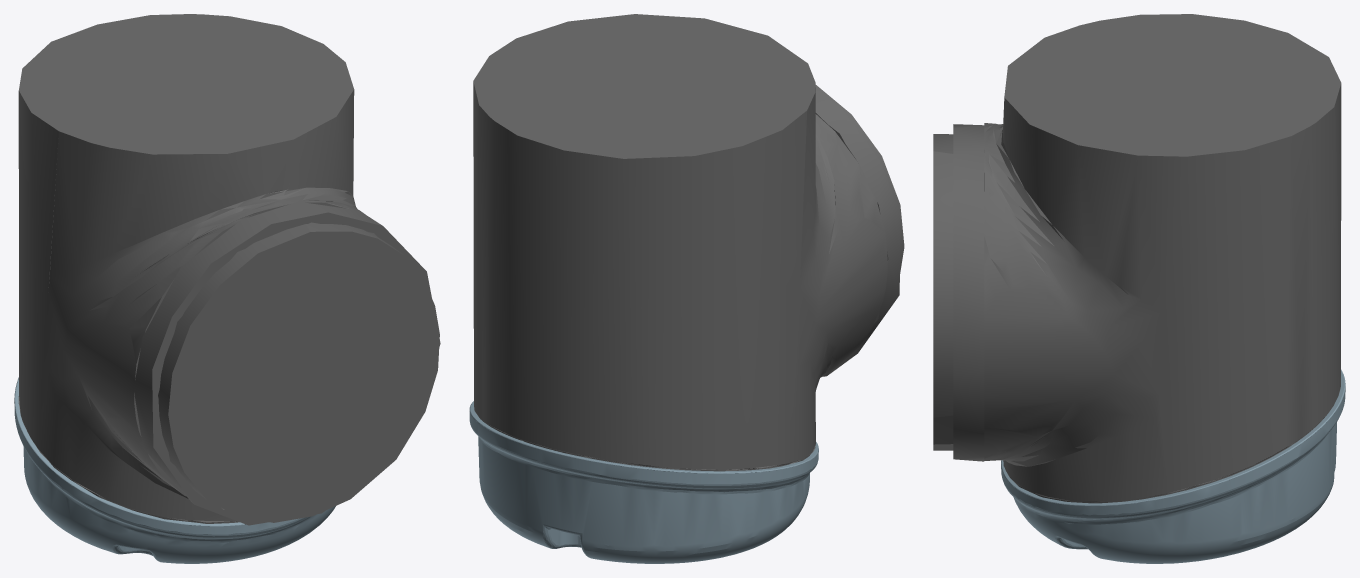
The model's file is wrist1.dae.
3 views of the same model, side by side, from view 1: azimuth 30°, elevation 25°; view 2: azimuth 150°, elevation 25°; view 3: azimuth 270°, elevation 25° (orthographic). The views are drawn at different scales.
Visible parts, largest first — view 1: node0, node2, node1; view 2: node0, node2, node1; view 3: node0, node2, node1.
Part boxes in pixels (left/top/right/bottom): node0: left=18, top=14, right=439, bottom=523; node2: left=14, top=377, right=335, bottom=563; node1: left=133, top=201, right=440, bottom=525; node0: left=473, top=14, right=904, bottom=471; node2: left=469, top=401, right=818, bottom=563; node1: left=815, top=91, right=900, bottom=376; node0: left=933, top=14, right=1341, bottom=503; node2: left=1001, top=369, right=1345, bottom=563; node1: left=953, top=124, right=984, bottom=461.
Size of the model in its own units: 0.0644 by 0.0769 by 0.0888.
